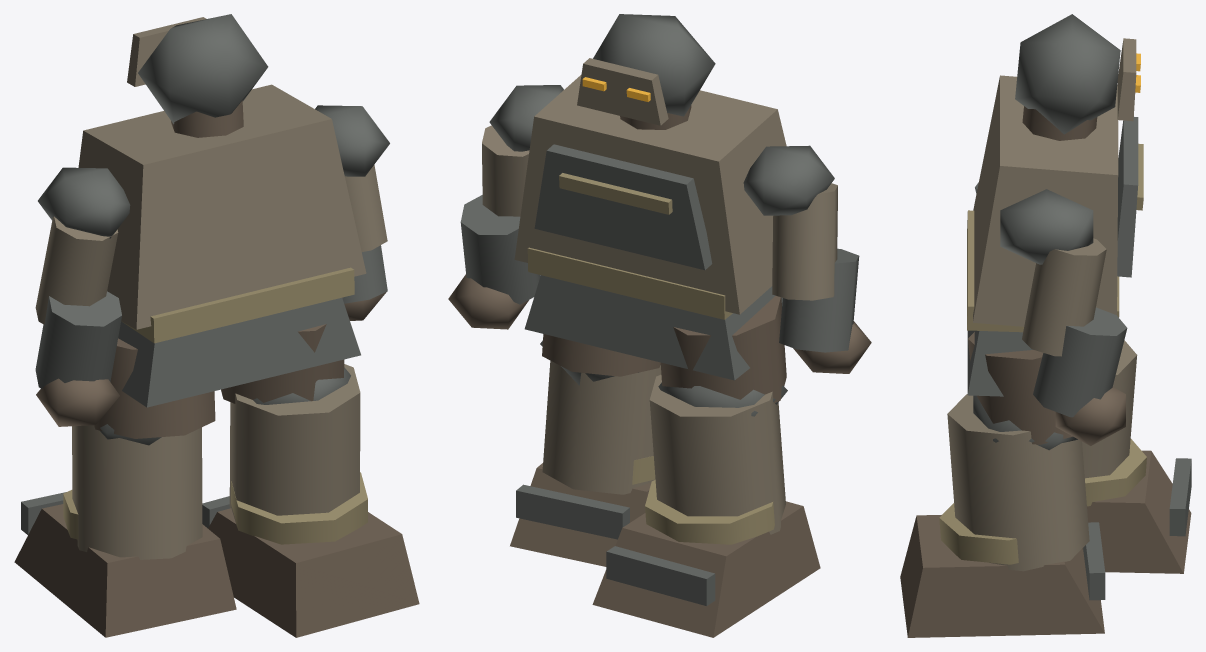
The model's file is slow.glb.
The picture shows the model from 3 angles, left to right: view 1: azimuth 30°, elevation 25°; view 2: azimuth 150°, elevation 25°; view 3: azimuth 270°, elevation 25°; orthographic projection. The views are drawn at different scales.
Visible parts, largest first — view 1: Torso, Boot.R, Boot.L, Shin.L, Shin.R, Pelvis, Head, Forearm.L, Belt, UpperArm.L, Thigh.L, Shoulder.L (+11 smaller); view 2: Torso, Shin.L, Boot.L, ChestPlate, Pelvis, Shin.R, Head, UpperArm.L, Thigh.L, Forearm.R, Belt, Forearm.L (+14 smaller); view 3: Torso, Shin.R, Boot.R, Head, Boot.L, UpperArm.R, Forearm.R, Shoulder.R, Thigh.R, ChestPlate, Shin.L, Fist.R (+10 smaller).
Boxes of the visible parts, x1,y1,x2,y2 form: Torso: [78, 84, 366, 329]; Boot.R: [208, 508, 419, 637]; Boot.L: [14, 504, 236, 637]; Shin.L: [72, 425, 202, 559]; Shin.R: [229, 364, 360, 526]; Pelvis: [118, 297, 360, 407]; Head: [138, 14, 268, 124]; Forearm.L: [35, 291, 121, 388]; Belt: [121, 267, 354, 343]; UpperArm.L: [35, 216, 118, 324]; Thigh.L: [94, 338, 215, 438]; Shoulder.L: [38, 167, 130, 238]; Torso: [514, 74, 786, 314]; Shin.L: [649, 374, 785, 534]; Boot.L: [592, 501, 820, 637]; ChestPlate: [534, 144, 712, 270]; Pelvis: [524, 275, 782, 380]; Shin.R: [542, 360, 661, 494]; Head: [593, 14, 715, 116]; UpperArm.L: [772, 183, 837, 300]; Thigh.L: [660, 296, 786, 403]; Forearm.R: [460, 195, 540, 304]; Belt: [527, 247, 732, 319]; Forearm.L: [779, 248, 859, 352]; Torso: [973, 75, 1118, 326]; Shin.R: [947, 394, 1089, 571]; Boot.R: [900, 515, 1104, 637]; Head: [1015, 14, 1120, 134]; Boot.L: [1082, 450, 1191, 573]; UpperArm.R: [1022, 238, 1106, 356]; Forearm.R: [1033, 307, 1127, 417]; Shoulder.R: [1000, 189, 1093, 264]; Thigh.R: [968, 332, 1072, 444]; ChestPlate: [1117, 117, 1138, 277]; Shin.L: [1082, 340, 1137, 478]; Fist.R: [1055, 387, 1125, 445].
Size of the model in its own units: 2.38 by 3.41 by 1.65.
